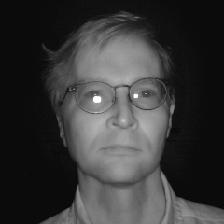normal: (43, 14, 184, 185)
